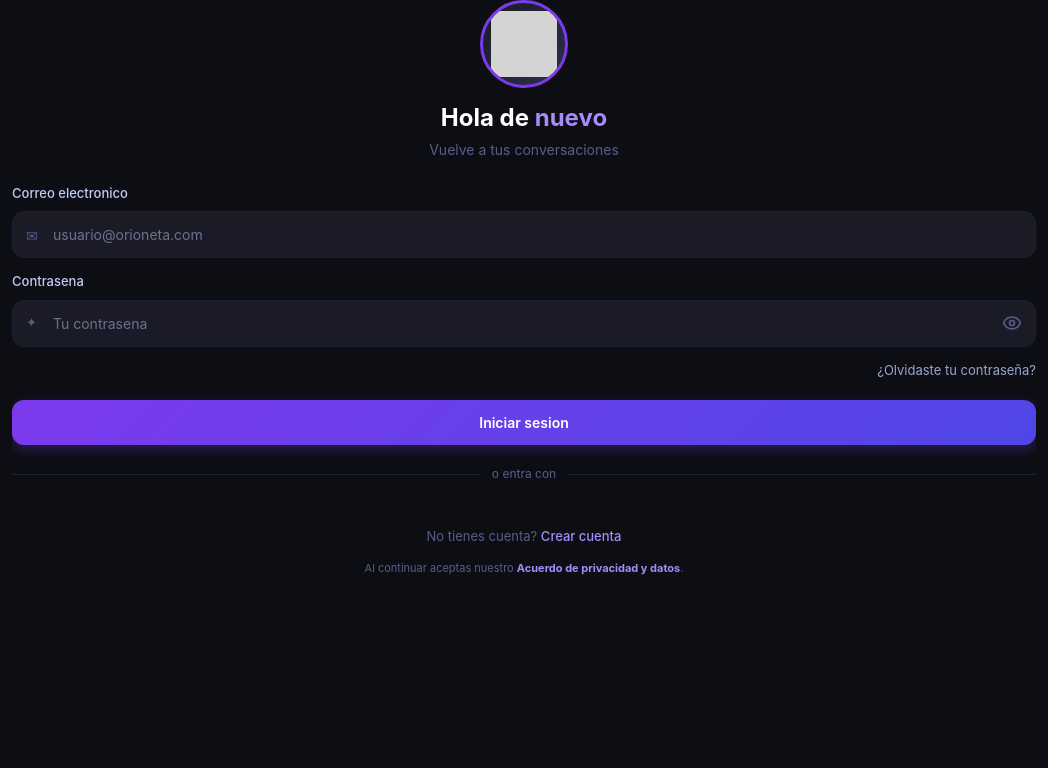
Test: LoginPage › shows validation errors for empty fields
Click the button "Iniciar sesion" at (524, 423), box [12, 400, 1036, 445]
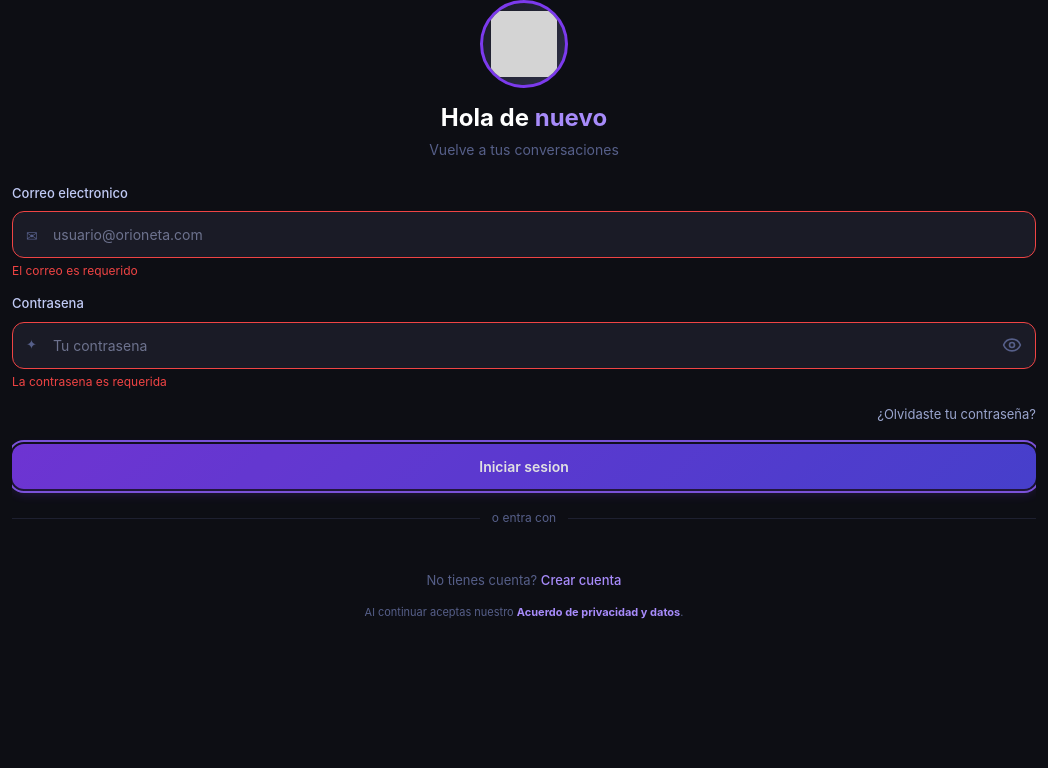
expect the text "El correo es requerido" is shown: met, box [12, 263, 138, 278]
expect the text "La contrasena es requerida" is shown: met, box [12, 374, 167, 389]
